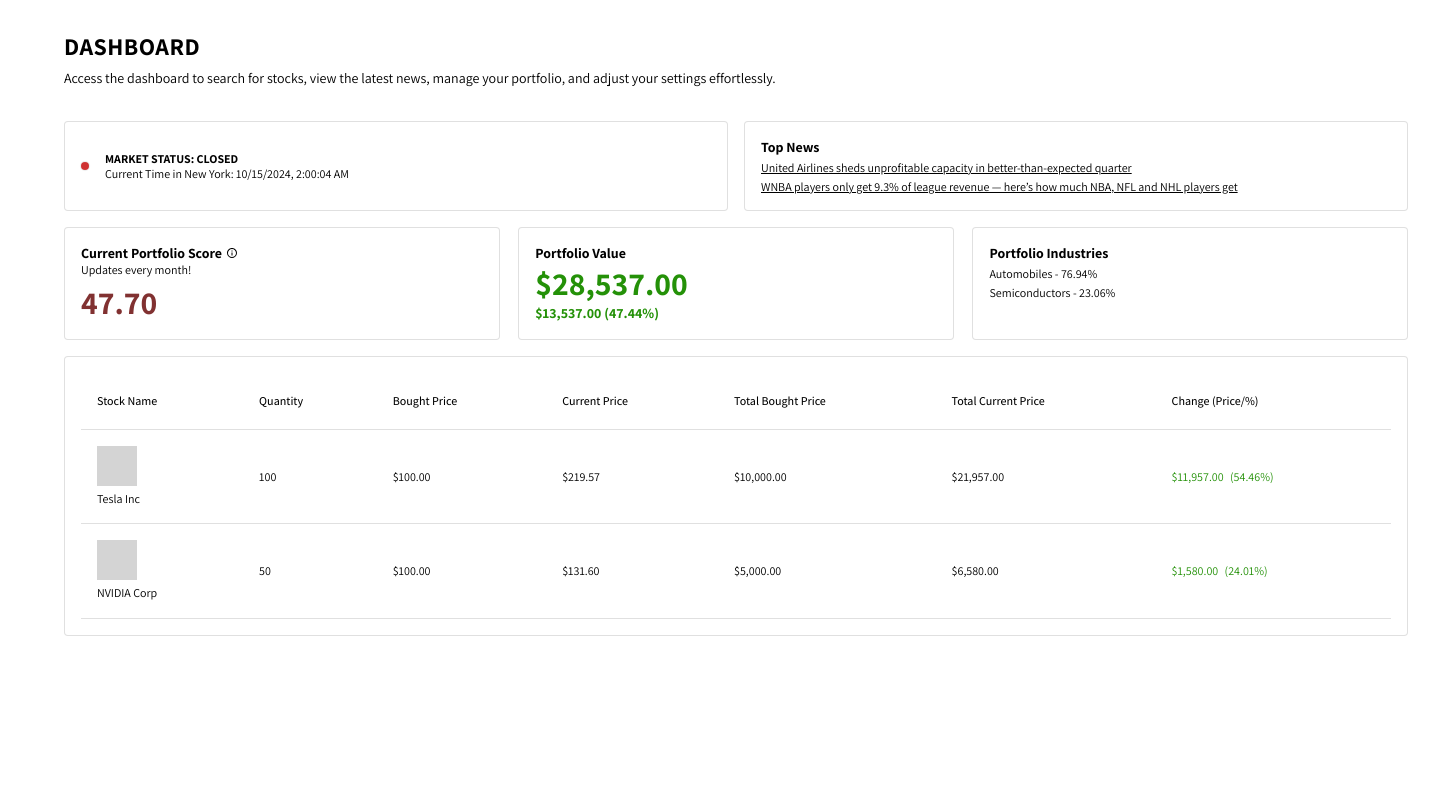
Test: Dashboard › Portfolio Score › should show the information popup
Click the button with test id "portfolio__score-btn": (232, 253) 226,247 -> 238,259
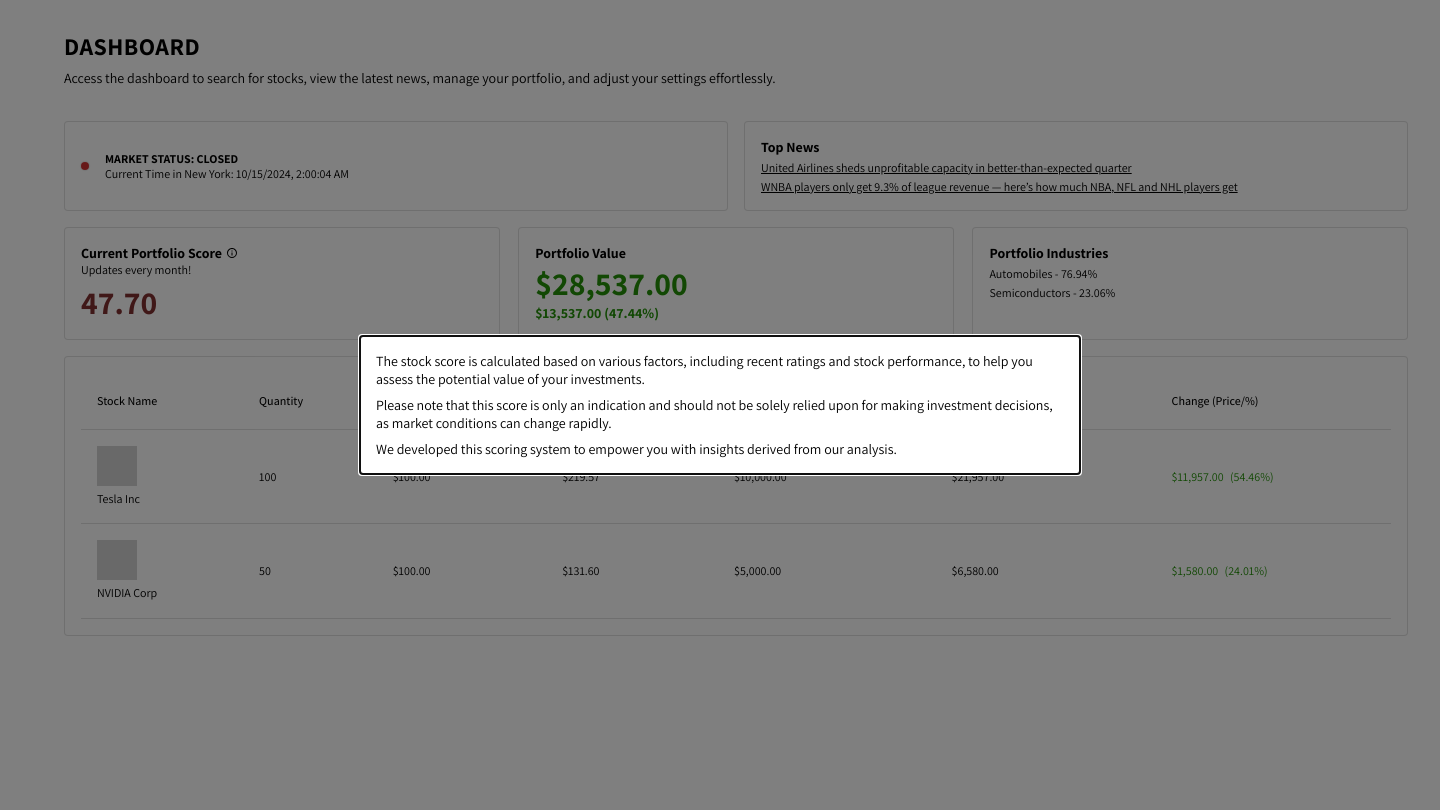
Result: the element with test id "portfolio__score-btn-modal" is shown
